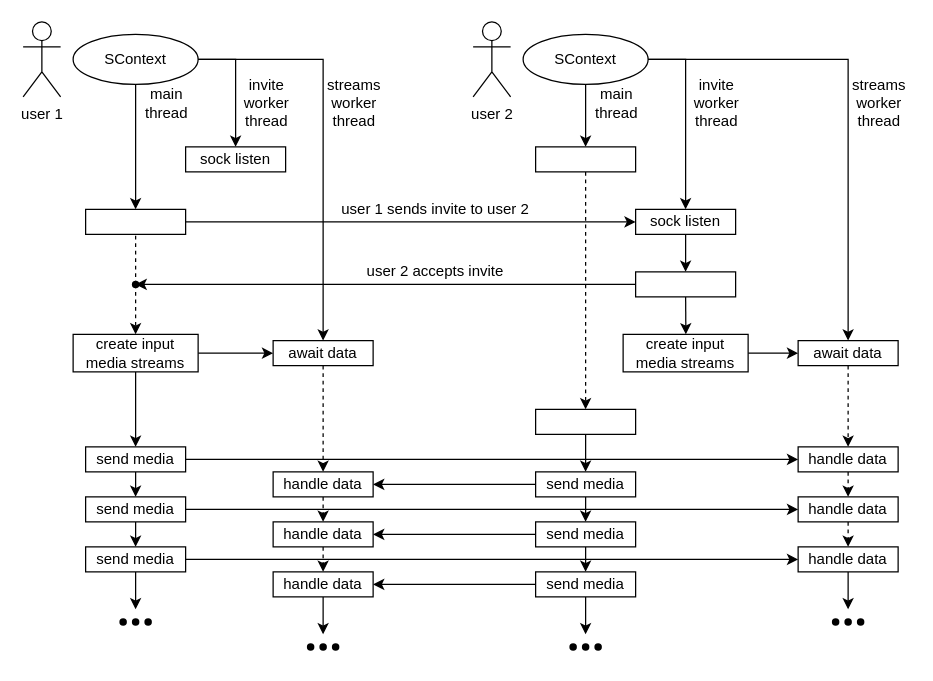
This 933x681 diagram has some shape labels left out. Here are the shapes that lost their labels. From the top down, the box of each, then its label:
(534, 146, 636, 172): wait invite
(84, 208, 186, 234): send invite
(634, 271, 736, 297): invite accept
(534, 408, 636, 434): invited
